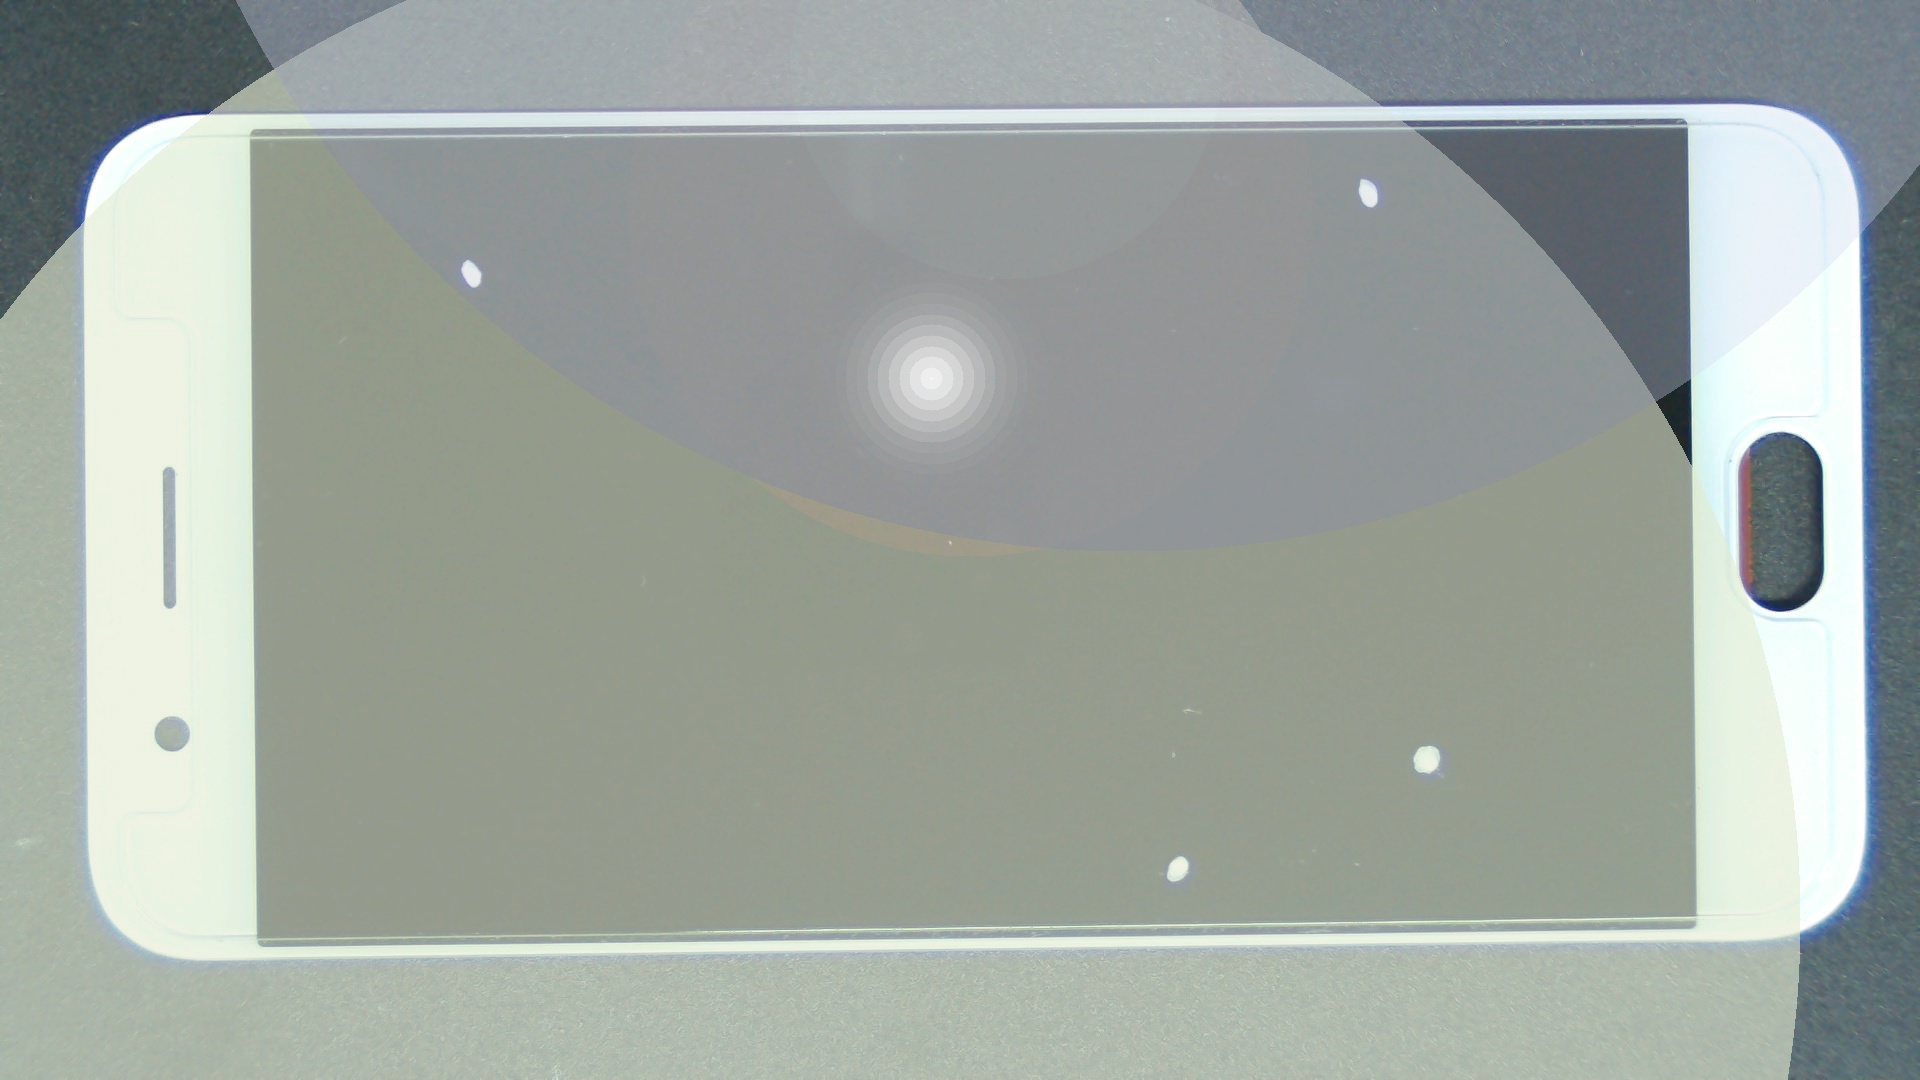oil: (712, 372, 1920, 1080), (591, 426, 1770, 1080), (679, 87, 1920, 266), (233, 128, 696, 388)
